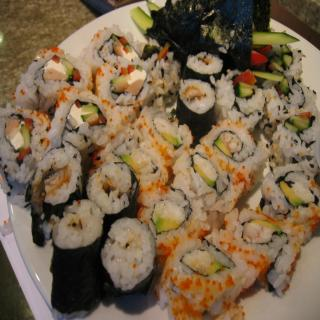Sushi: (0, 0, 320, 320), (46, 198, 103, 311), (98, 214, 160, 302)
